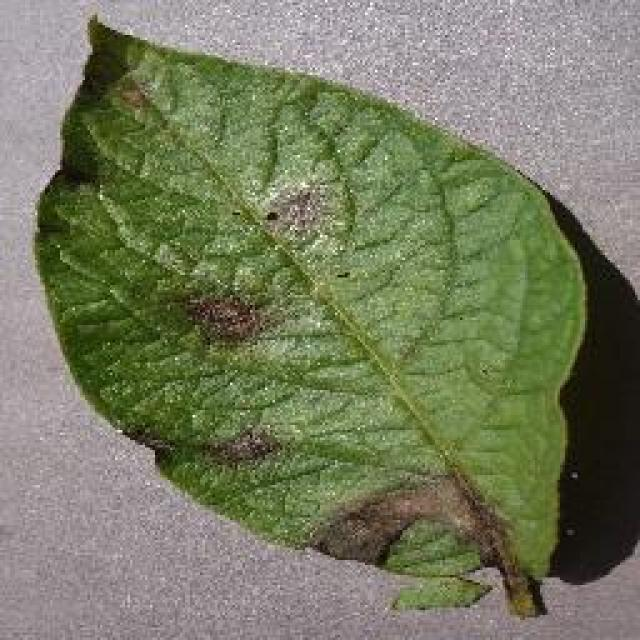late_blight: (30, 10, 592, 620)
